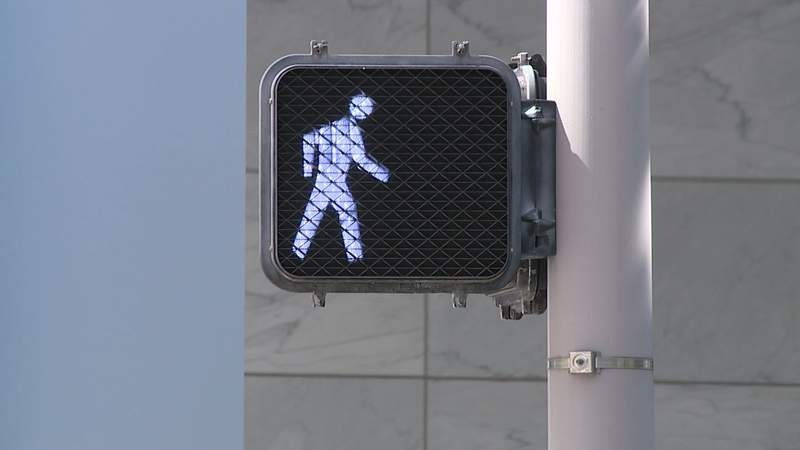pedestrian_walk: (272, 63, 516, 287)
